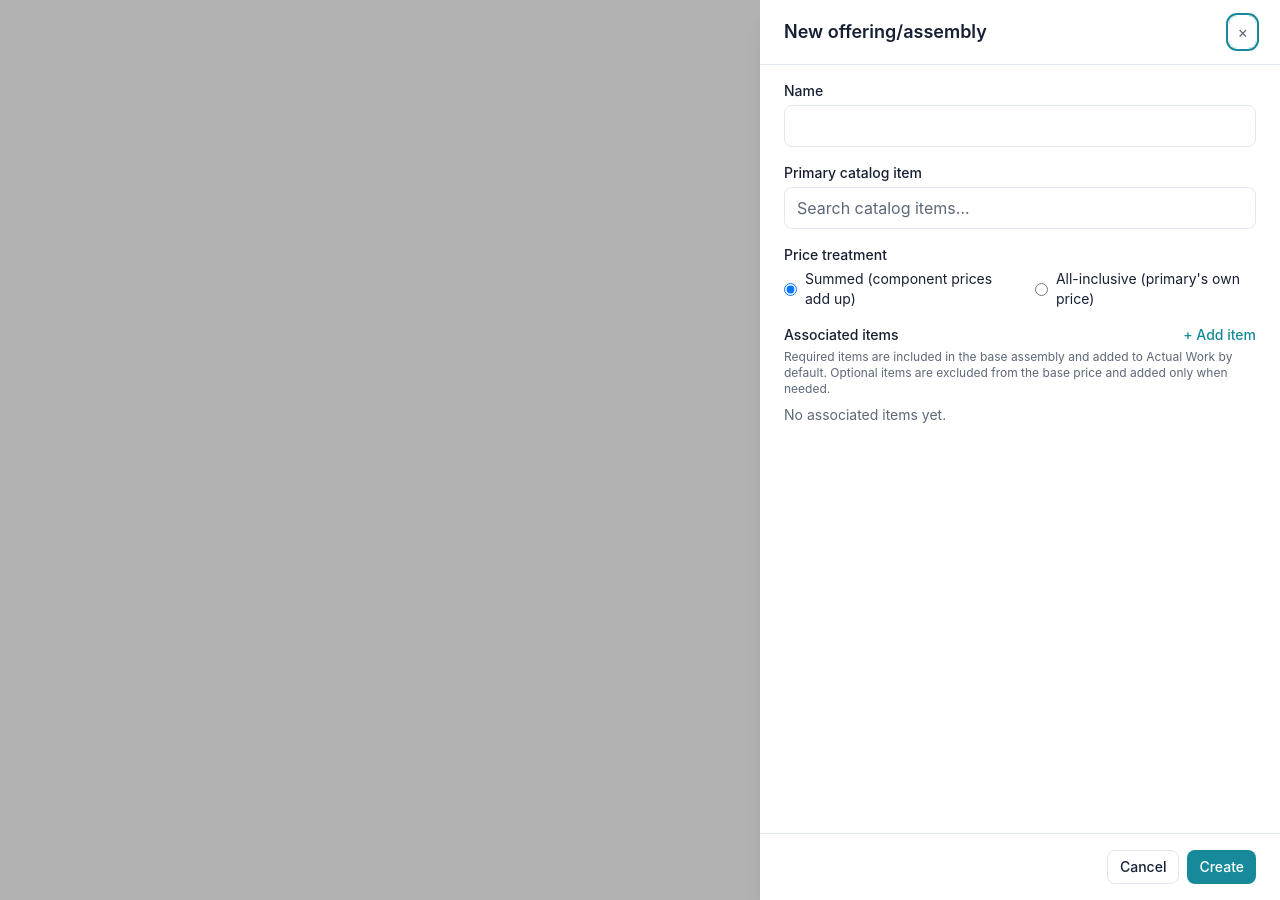
Scenario: OfferingAssemblyDrawer › requires a name and a primary catalog item before submitting
The width and height of the screenshot is (1280, 900).
Step 1. Click the button "Create" → click(1222, 867), box top-left (1187, 850), bottom-right (1256, 884)
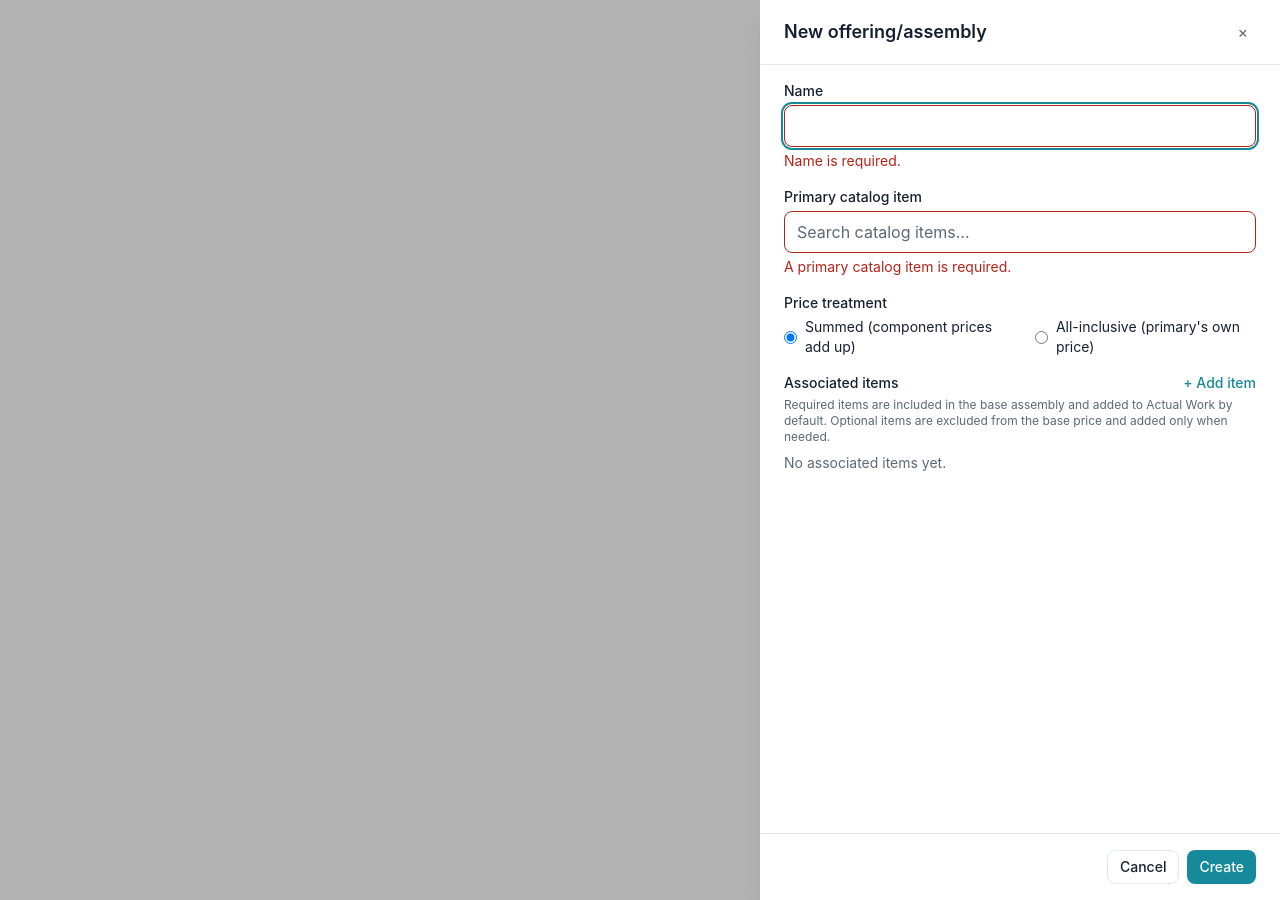
Check: the text "Name is required." is shown, box top-left (784, 152), bottom-right (901, 169)
Check: the text "A primary catalog item is required." is shown, box top-left (784, 258), bottom-right (1011, 275)
